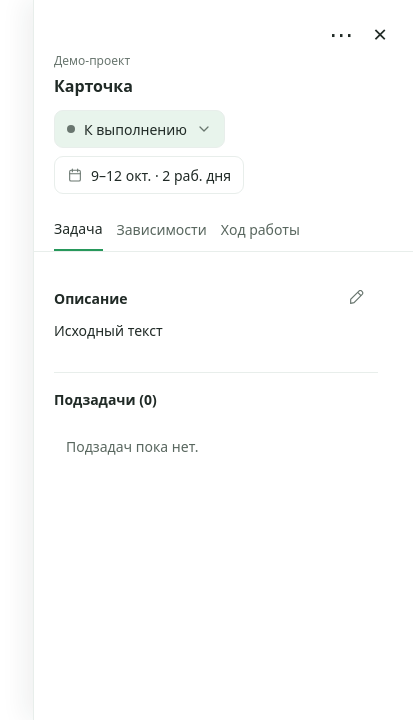
Test: failed status leaves the saved value visible
This screenshot has width=413, height=720.
Click the button with aria-label "Статус:". click: x=140, y=129
box: x1=54 y1=110 x2=225 y2=148
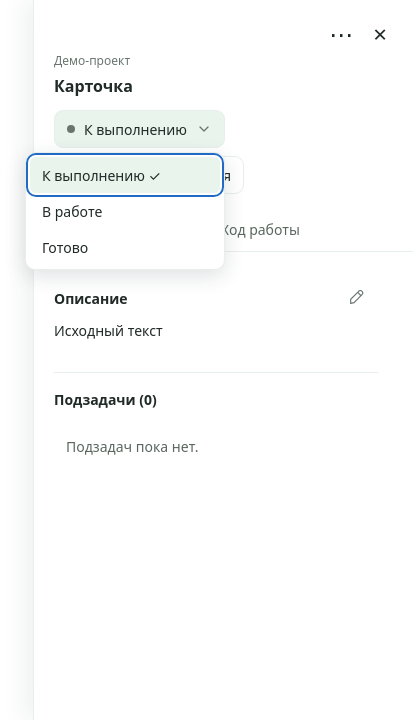
Click the menu item "В работе". click: x=125, y=211
box: x1=30 y1=193 x2=220 y2=229
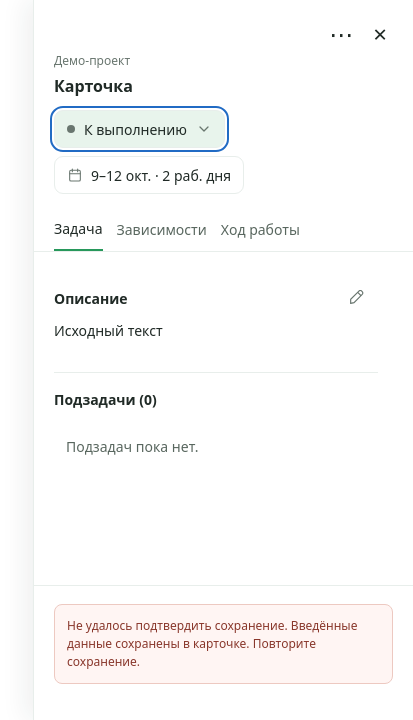
Expected: the button with aria-label "Статус:" reads "К выполнению", x1=54 y1=110 x2=225 y2=148
Expected: the 1st message is shown, x1=54 y1=604 x2=393 y2=684
